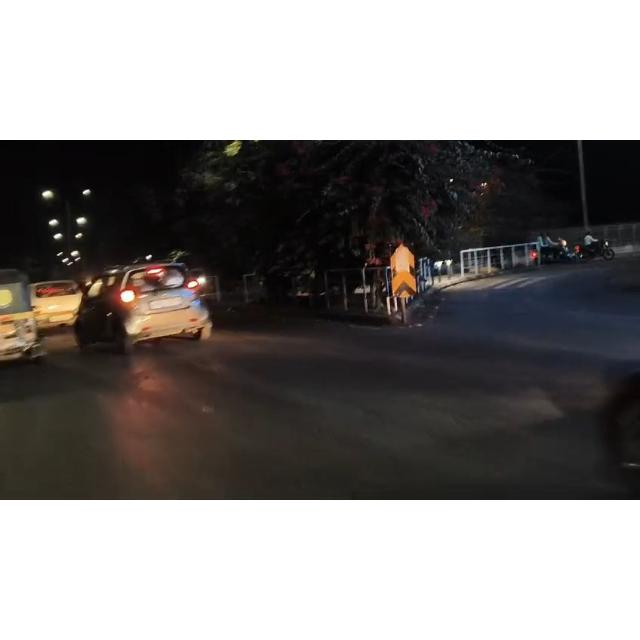auto: (1, 261, 54, 367)
car: (69, 256, 219, 360), (32, 270, 86, 333)
